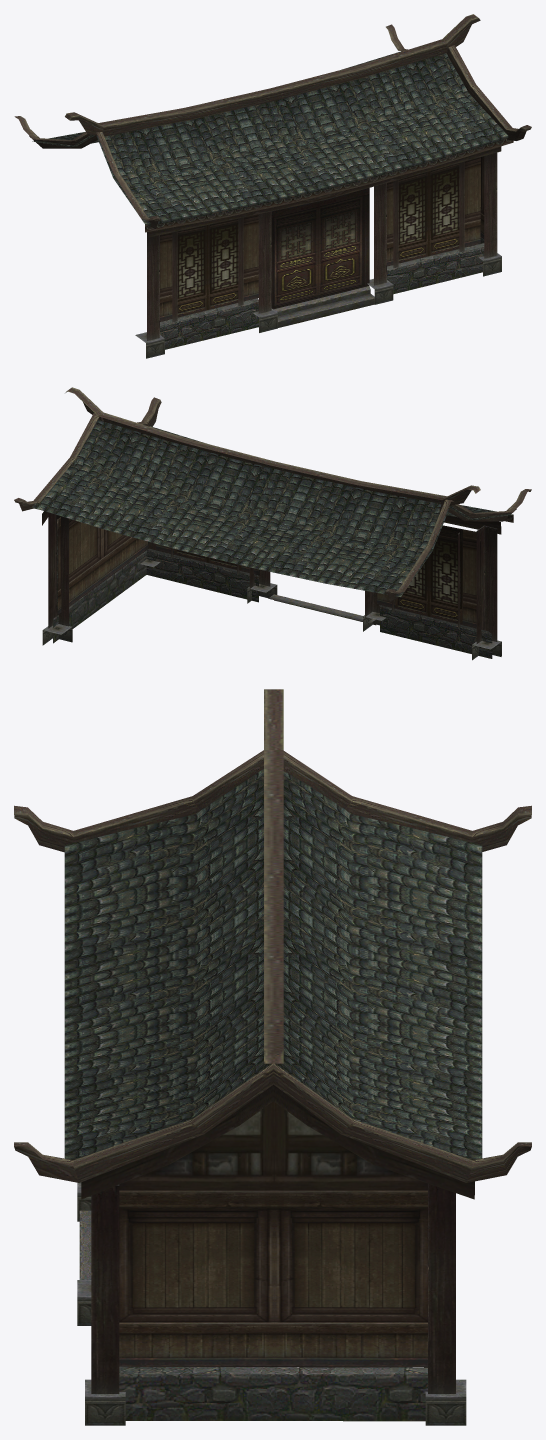
Rendered from yw_juxianzhuang_fujian.FBX.
3 renders of one model, top to bottom at view 1: azimuth 30°, elevation 25°; view 2: azimuth 150°, elevation 25°; view 3: azimuth 270°, elevation 25°, orthographic. The views are drawn at different scales.
Parts seen in each view (by area): view 1: yw_juxianzhuang_fujian; view 2: yw_juxianzhuang_fujian; view 3: yw_juxianzhuang_fujian.
Part boxes in pixels (x1,y1,x2,y2): yw_juxianzhuang_fujian: (14,14,531,358); yw_juxianzhuang_fujian: (14,387,531,660); yw_juxianzhuang_fujian: (14,689,531,1425).
Bounding box in the file's own units: 1041 × 514 × 615.
Materials: 1 (1 with a texture image).
